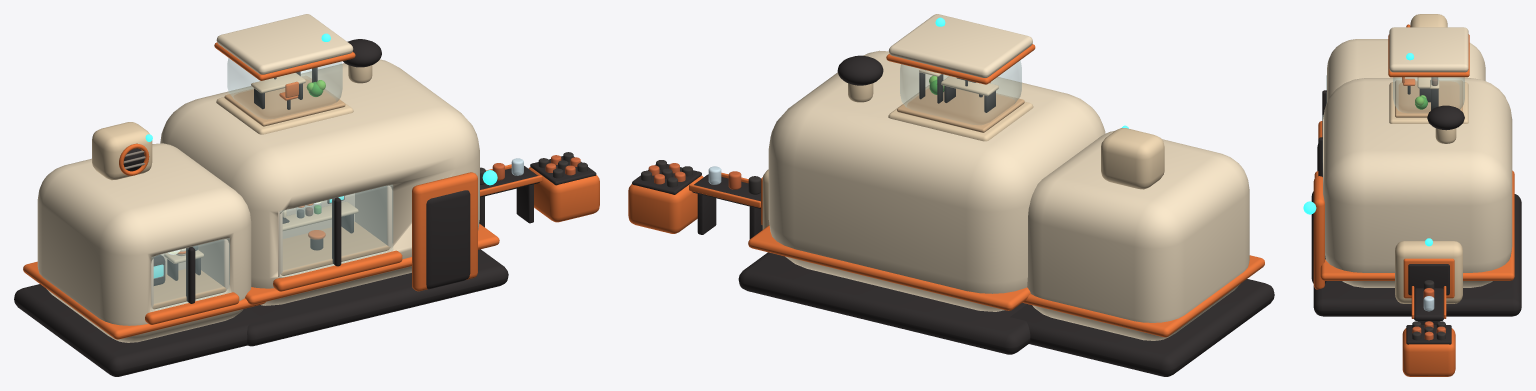
File: research-a-10.glb
3 renders of one model, left to right at view 1: azimuth 30°, elevation 25°; view 2: azimuth 150°, elevation 25°; view 3: azimuth 270°, elevation 25°, orthographic. The views are drawn at different scales.
Parts seen in each view (by area): view 1: Cube.001, Cube.044, Cube.043, Cube, Cube.012, Cube.041, Cube.040, Cube.017, Cube.055, Cube.016, Cube.003, Cube.029 (+20 smaller); view 2: Cube.001, Cube.044, Cube, Cube.043, Cube.041, Cube.040, Cube.015, Cube.059, Cube.029, Cube.026, Cube.058, Cube.028 (+7 smaller); view 3: Cube.001, Cube, Cube.041, Cube.044, Cube.040, Cube.018, Cube.026, Cube.015, Cube.029, Cube.016, Cube.020, Cube.021 (+9 smaller).
Boxes of the visible parts, <box> form: Cube.001: <box>160,59,479,305</box>; Cube.044: <box>37,143,251,342</box>; Cube.043: <box>14,284,264,376</box>; Cube: <box>247,249,508,346</box>; Cube.012: <box>279,185,393,278</box>; Cube.041: <box>216,14,353,74</box>; Cube.040: <box>227,58,342,119</box>; Cube.017: <box>426,190,470,289</box>; Cube.055: <box>151,238,229,311</box>; Cube.016: <box>412,172,477,291</box>; Cube.003: <box>280,221,390,275</box>; Cube.029: <box>224,75,345,126</box>; Cube.001: <box>768,50,1105,311</box>; Cube.044: <box>1027,131,1249,340</box>; Cube: <box>738,252,1030,354</box>; Cube.043: <box>1010,279,1274,376</box>; Cube.041: <box>888,14,1032,77</box>; Cube.040: <box>900,60,1021,124</box>; Cube.015: <box>748,225,1030,310</box>; Cube.059: <box>1101,128,1164,189</box>; Cube.029: <box>897,85,1024,132</box>; Cube.026: <box>628,175,703,233</box>; Cube.058: <box>1022,255,1264,337</box>; Cube.028: <box>888,84,1033,141</box>; Cube.001: <box>1323,78,1512,287</box>; Cube: <box>1313,194,1521,316</box>; Cube.041: <box>1389,27,1468,72</box>; Cube.044: <box>1327,39,1485,102</box>; Cube.040: <box>1393,77,1464,112</box>; Cube.018: <box>1395,241,1462,303</box>; Cube.026: <box>1402,328,1455,376</box>; Cube.015: <box>1320,170,1514,280</box>; Cube.029: <box>1395,80,1462,117</box>; Cube.016: <box>1313,176,1324,289</box>; Cube.020: <box>1408,264,1449,295</box>; Cube.021: <box>1414,288,1443,320</box>.
Size of the model in its own units: 2.85 by 1.23 by 1.16.
